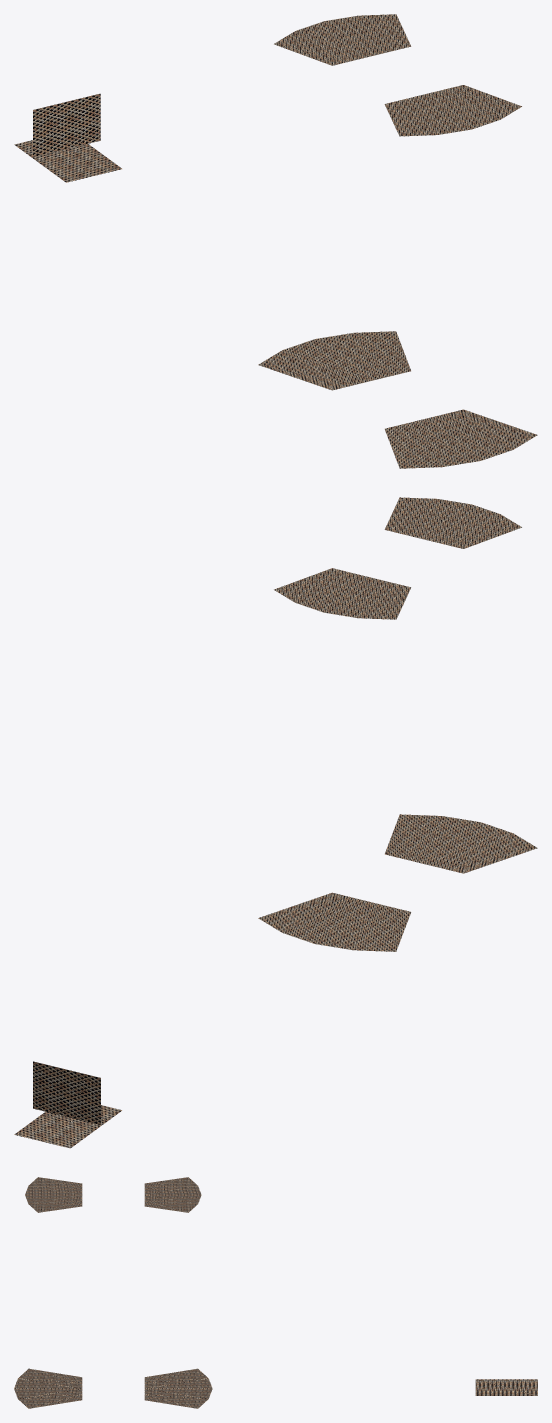
Rendered from Bullet Station 62.fbx.
3 views of the same model, one above another, from view 1: azimuth 30°, elevation 25°; view 2: azimuth 150°, elevation 25°; view 3: azimuth 270°, elevation 25° (orthographic). The views are drawn at different scales.
Parts seen in each view (by area): view 1: STG08_PNW_17; view 2: STG08_PNW_17; view 3: STG08_PNW_17.
Part boxes in pixels (x1,y1,x2,y2): STG08_PNW_17: (14,14,537,468); STG08_PNW_17: (14,497,537,1148); STG08_PNW_17: (14,1177,537,1408).
Bounding box in the file's own units: 24462 × 54882 × 134513.
